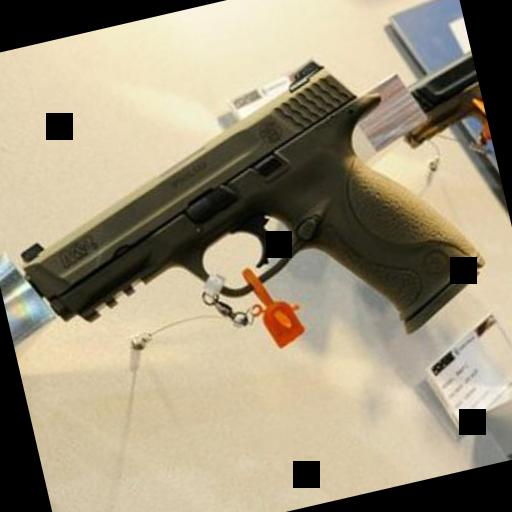Handgun: (0, 28, 496, 400)
